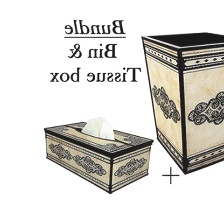tissue: (77, 111, 119, 144)
